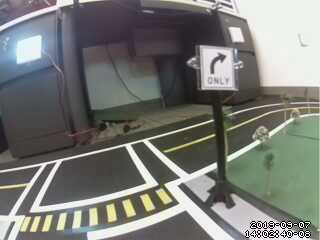Right_only_sign: (196, 40, 241, 90)
